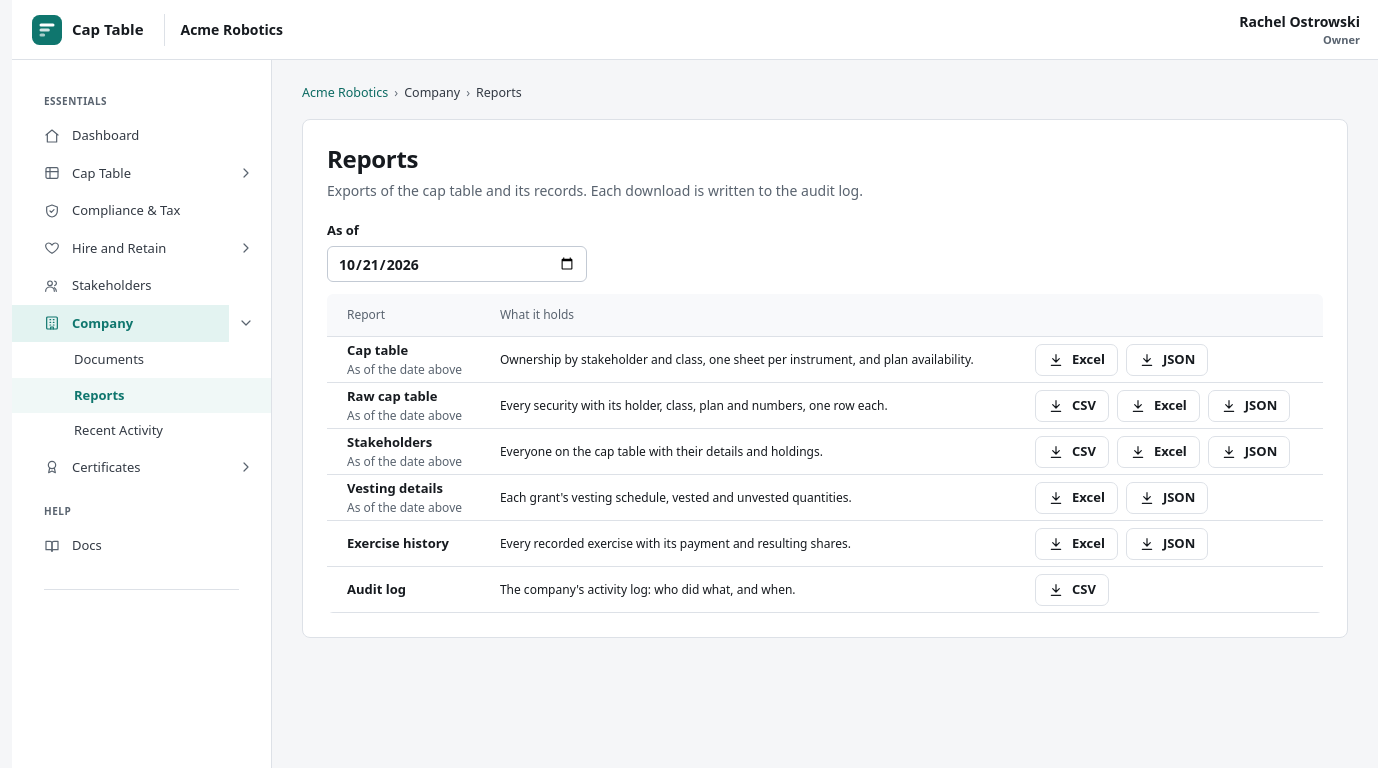
Test: reports › refuses a date after today
This screenshot has width=1378, height=768.
Type "2099-01-01" into the date field labelled "As of".
click(457, 264); type("2099-01-01")  # box [327,246,587,282]
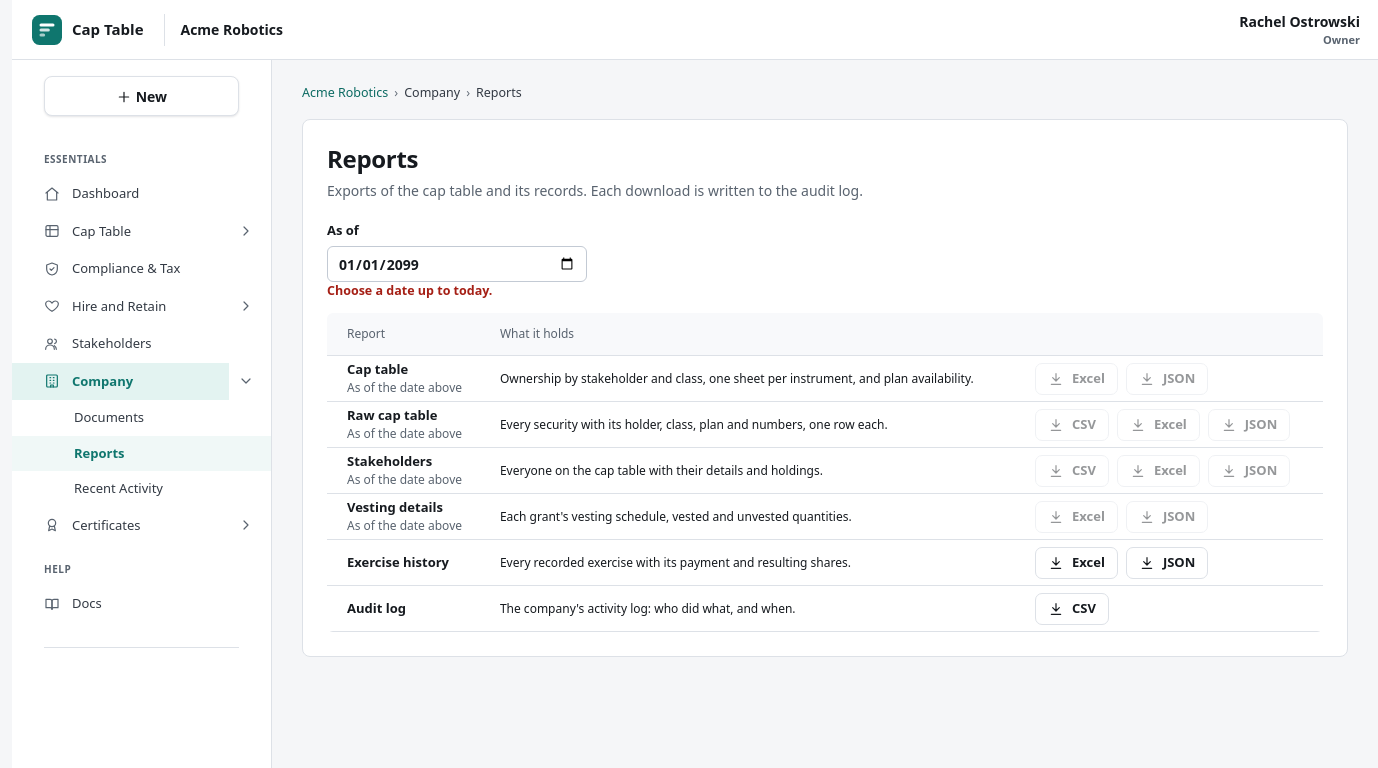
expect the button with aria-label "Download the audit log as CSV" is enabled: met, box [1035,592,1109,624]
expect the text "Choose a date up to today." is shown: met, box [327,282,492,299]
expect the button with aria-label "Download the cap table as Excel" is disabled: met, box [1035,362,1118,394]
